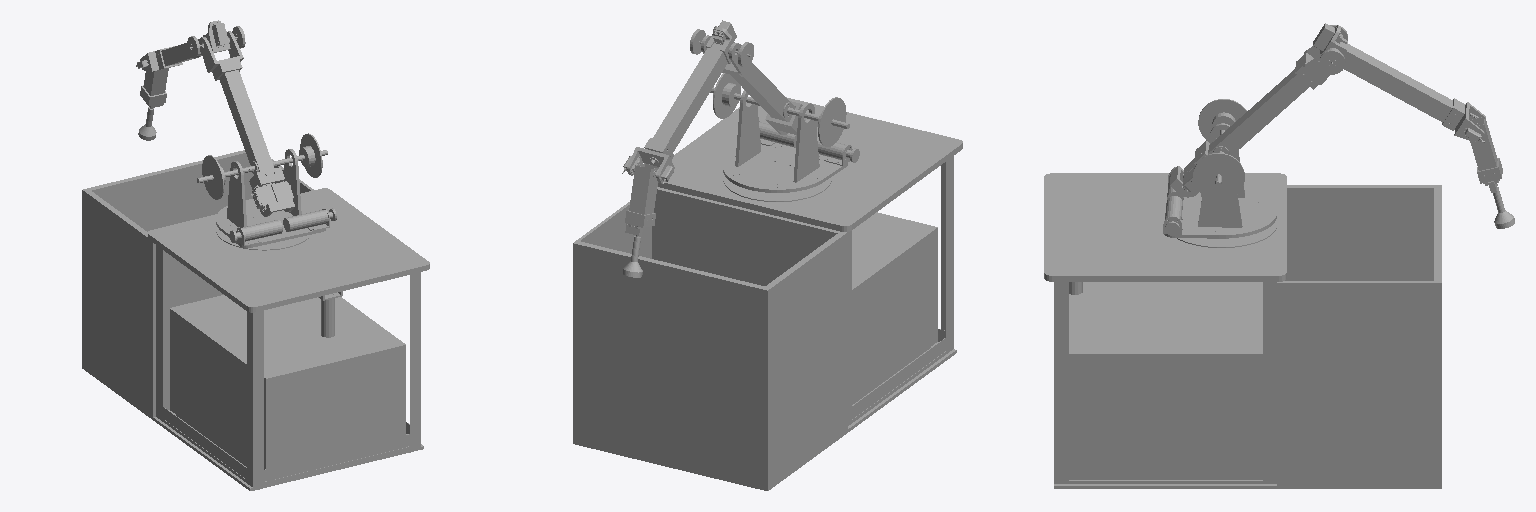
The robot description file, URDF, robot "vinci":
<?xml version="1.0" ?>
<!-- =================================================================================== -->
<!-- |    This document was autogenerated by xacro from [local-path]/final_ws/src/vinci_description/urdf/vinci.xacro | -->
<!-- |    EDITING THIS FILE BY HAND IS NOT RECOMMENDED                                 | -->
<!-- =================================================================================== -->
<robot name="vinci">
    <material name="silver">
        <color rgba="0.700 0.700 0.700 1.000" />
    </material>
    <transmission name="foundation_fork_tran">
        <type>transmission_interface/SimpleTransmission</type>
        <joint name="foundation_fork">
            <hardwareInterface>hardware_interface/EffortJointInterface</hardwareInterface>
        </joint>
        <actuator name="foundation_fork_actr">
            <hardwareInterface>hardware_interface/EffortJointInterface</hardwareInterface>
            <mechanicalReduction>1</mechanicalReduction>
        </actuator>
    </transmission>
    <transmission name="fork_forearm_tran">
        <type>transmission_interface/SimpleTransmission</type>
        <joint name="fork_forearm">
            <hardwareInterface>hardware_interface/EffortJointInterface</hardwareInterface>
        </joint>
        <actuator name="fork_forearm_actr">
            <hardwareInterface>hardware_interface/EffortJointInterface</hardwareInterface>
            <mechanicalReduction>1</mechanicalReduction>
        </actuator>
    </transmission>
    <transmission name="forearm_hand_tran">
        <type>transmission_interface/SimpleTransmission</type>
        <joint name="forearm_hand">
            <hardwareInterface>hardware_interface/EffortJointInterface</hardwareInterface>
        </joint>
        <actuator name="forearm_hand_actr">
            <hardwareInterface>hardware_interface/EffortJointInterface</hardwareInterface>
            <mechanicalReduction>1</mechanicalReduction>
        </actuator>
    </transmission>
    <transmission name="hand_fork_tran">
        <type>transmission_interface/SimpleTransmission</type>
        <joint name="hand_fork">
            <hardwareInterface>hardware_interface/EffortJointInterface</hardwareInterface>
        </joint>
        <actuator name="hand_fork_actr">
            <hardwareInterface>hardware_interface/EffortJointInterface</hardwareInterface>
            <mechanicalReduction>1</mechanicalReduction>
        </actuator>
    </transmission>
    <transmission name="fork_end_tran">
        <type>transmission_interface/SimpleTransmission</type>
        <joint name="fork_end">
            <hardwareInterface>hardware_interface/EffortJointInterface</hardwareInterface>
        </joint>
        <actuator name="fork_end_actr">
            <hardwareInterface>hardware_interface/EffortJointInterface</hardwareInterface>
            <mechanicalReduction>1</mechanicalReduction>
        </actuator>
    </transmission>
    <gazebo reference="base_link">
        <material>Gazebo/Silver</material>
        <mu1>0.2</mu1>
        <mu2>0.2</mu2>
        <selfCollide>true</selfCollide>
        <gravity>true</gravity>
        <plugin name="gazebo_ros_control">
            <robotNamespace>/</robotNamespace>
        </plugin>
    </gazebo>
    <gazebo reference="foundation__base_1">
        <material>Gazebo/Silver</material>
        <mu1>0.2</mu1>
        <mu2>0.2</mu2>
        <selfCollide>true</selfCollide>
    </gazebo>
    <gazebo reference="foundation_fork_1">
        <material>Gazebo/Silver</material>
        <mu1>0.2</mu1>
        <mu2>0.2</mu2>
        <selfCollide>true</selfCollide>
    </gazebo>
    <gazebo reference="forearm_1">
        <material>Gazebo/Silver</material>
        <mu1>0.2</mu1>
        <mu2>0.2</mu2>
        <selfCollide>true</selfCollide>
    </gazebo>
    <gazebo reference="hand_1">
        <material>Gazebo/Silver</material>
        <mu1>0.2</mu1>
        <mu2>0.2</mu2>
        <selfCollide>true</selfCollide>
    </gazebo>
    <gazebo reference="hand_fork_1">
        <material>Gazebo/Silver</material>
        <mu1>0.2</mu1>
        <mu2>0.2</mu2>
        <selfCollide>true</selfCollide>
    </gazebo>
    <gazebo reference="end_effector_1">
        <material>Gazebo/Silver</material>
        <mu1>0.2</mu1>
        <mu2>0.2</mu2>
        <selfCollide>true</selfCollide>
    </gazebo>
    <link name="dummy" />
    <joint name="dummy_joint" type="fixed">
        <parent link="dummy" />
        <child link="base_link" />
    </joint>
    <link name="base_link">
        <inertial>
            <origin rpy="0 0 0" xyz="-0.021518218467853914 0.23351950797477217 0.23670607205875357" />
            <mass value="17.97264000000002" />
            <inertia ixx="1.833137" ixy="0.030245" ixz="0.030749" iyy="1.542102" iyz="-0.287683" izz="1.955592" />
        </inertial>
        <visual>
            <origin rpy="0 0 0" xyz="0 0 0" />
            <geometry>
                <mesh filename="package://vinci_description/meshes/base_link.stl" scale="0.001 0.001 0.001" />
            </geometry>
            <material name="silver" />
        </visual>
        <collision>
            <origin rpy="0 0 0" xyz="0 0 0" />
            <geometry>
                <mesh filename="package://vinci_description/meshes/base_link.stl" scale="0.001 0.001 0.001" />
            </geometry>
        </collision>
    </link>
    <link name="foundation__base_1">
        <inertial>
            <origin rpy="0 0 0" xyz="-0.001888232824595331 0.0011432017738466638 0.20943681365096398" />
            <mass value="920.4727092380526" />
            <inertia ixx="48.985183" ixy="0.000622" ixz="-0.042143" iyy="41.31025" iyz="0.048602" izz="48.576431" />
        </inertial>
        <visual>
            <origin rpy="0 0 0" xyz="-0.0033 0.218673 -0.005643" />
            <geometry>
                <mesh filename="package://vinci_description/meshes/foundation__base_1.stl" scale="0.001 0.001 0.001" />
            </geometry>
            <material name="silver" />
        </visual>
        <collision>
            <origin rpy="0 0 0" xyz="-0.0033 0.218673 -0.005643" />
            <geometry>
                <mesh filename="package://vinci_description/meshes/foundation__base_1.stl" scale="0.001 0.001 0.001" />
            </geometry>
        </collision>
    </link>
    <link name="foundation_fork_1">
        <inertial>
            <origin rpy="0 0 0" xyz="-0.0014671964926098236 -0.03376372718940687 0.027101208060099302" />
            <mass value="2.098305031192791" />
            <inertia ixx="0.018488" ixy="8.8e-05" ixz="5.5e-05" iyy="0.020902" iyz="0.001405" izz="0.024893" />
        </inertial>
        <visual>
            <origin rpy="0 0 0" xyz="-0.0033 0.068673 -0.646643" />
            <geometry>
                <mesh filename="package://vinci_description/meshes/foundation_fork_1.stl" scale="0.001 0.001 0.001" />
            </geometry>
            <material name="silver" />
        </visual>
        <collision>
            <origin rpy="0 0 0" xyz="-0.0033 0.068673 -0.646643" />
            <geometry>
                <mesh filename="package://vinci_description/meshes/foundation_fork_1.stl" scale="0.001 0.001 0.001" />
            </geometry>
        </collision>
    </link>
    <link name="forearm_1">
        <inertial>
            <origin rpy="0 0 0" xyz="-0.09540847267472075 0.04056293998704136 0.03597247258900238" />
            <mass value="1.1580779637924898" />
            <inertia ixx="0.036195" ixy="-0.00031" ixz="-0.000725" iyy="0.028689" iyz="-0.017574" izz="0.028609" />
        </inertial>
        <visual>
            <origin rpy="0 0 0" xyz="-0.093223 0.072385 -0.851643" />
            <geometry>
                <mesh filename="package://vinci_description/meshes/forearm_1.stl" scale="0.001 0.001 0.001" />
            </geometry>
            <material name="silver" />
        </visual>
        <collision>
            <origin rpy="0 0 0" xyz="-0.093223 0.072385 -0.851643" />
            <geometry>
                <mesh filename="package://vinci_description/meshes/forearm_1.stl" scale="0.001 0.001 0.001" />
            </geometry>
        </collision>
    </link>
    <link name="hand_1">
        <inertial>
            <origin rpy="0 0 0" xyz="-0.03992368478493042 0.07143853540526318 -0.033703682433203985" />
            <mass value="0.39288844288416375" />
            <inertia ixx="0.008986" ixy="-0.000242" ixz="0.000159" iyy="0.003142" iyz="0.003845" izz="0.007028" />
        </inertial>
        <visual>
            <origin rpy="0 0 0" xyz="-0.048664 -0.23023 -1.152164" />
            <geometry>
                <mesh filename="package://vinci_description/meshes/hand_1.stl" scale="0.001 0.001 0.001" />
            </geometry>
            <material name="silver" />
        </visual>
        <collision>
            <origin rpy="0 0 0" xyz="-0.048664 -0.23023 -1.152164" />
            <geometry>
                <mesh filename="package://vinci_description/meshes/hand_1.stl" scale="0.001 0.001 0.001" />
            </geometry>
        </collision>
    </link>
    <link name="hand_fork_1">
        <inertial>
            <origin rpy="0 0 0" xyz="0.001044527118925321 0.025305490978953737 -0.014623183252032379" />
            <mass value="0.19515039122298017" />
            <inertia ixx="0.000118" ixy="1.3e-05" ixz="1e-06" iyy="0.00042" iyz="2.1e-05" izz="0.000445" />
        </inertial>
        <visual>
            <origin rpy="0 0 0" xyz="-0.019793 -0.56946 -0.957164" />
            <geometry>
                <mesh filename="package://vinci_description/meshes/hand_fork_1.stl" scale="0.001 0.001 0.001" />
            </geometry>
            <material name="silver" />
        </visual>
        <collision>
            <origin rpy="0 0 0" xyz="-0.019793 -0.56946 -0.957164" />
            <geometry>
                <mesh filename="package://vinci_description/meshes/hand_fork_1.stl" scale="0.001 0.001 0.001" />
            </geometry>
        </collision>
    </link>
    <link name="end_effector_1">
        <inertial>
            <origin rpy="0 0 0" xyz="-0.021214291377516858 0.048734773258859776 -0.17836473257148278" />
            <mass value="0.5354810781353959" />
            <inertia ixx="0.003599" ixy="-2e-06" ixz="9e-06" iyy="0.003392" iyz="0.000835" izz="0.000502" />
        </inertial>
        <visual>
            <origin rpy="0 0 0" xyz="-0.046732 -0.615914 -0.92968" />
            <geometry>
                <mesh filename="package://vinci_description/meshes/end_effector_1.stl" scale="0.001 0.001 0.001" />
            </geometry>
            <material name="silver" />
        </visual>
        <collision>
            <origin rpy="0 0 0" xyz="-0.046732 -0.615914 -0.92968" />
            <geometry>
                <mesh filename="package://vinci_description/meshes/end_effector_1.stl" scale="0.001 0.001 0.001" />
            </geometry>
        </collision>
    </link>
    <joint name="foundation_base" type="fixed">
        <origin rpy="0 0 0" xyz="0.0033 -0.218673 0.005643" />
        <parent link="base_link" />
        <child link="foundation__base_1" />
    </joint>
    <joint name="foundation_fork" type="continuous">
        <origin rpy="0 0 0" xyz="0.0 0.15 0.641" />
        <parent link="foundation__base_1" />
        <child link="foundation_fork_1" />
        <axis xyz="-0.0 -0.0 1.0" />
    </joint>
    <joint name="fork_forearm" type="revolute">
        <origin rpy="0 0 0" xyz="0.089923 -0.003712 0.205" />
        <parent link="foundation_fork_1" />
        <child link="forearm_1" />
        <axis xyz="-0.999149 0.041238 -0.0" />
        <limit effort="100" lower="-0.174533" upper="1.396263" velocity="100" />
    </joint>
    <joint name="forearm_hand" type="revolute">
        <origin rpy="0 0 0" xyz="-0.044559 0.302615 0.300521" />
        <parent link="forearm_1" />
        <child link="hand_1" />
        <axis xyz="-0.999149 0.041238 -0.0" />
        <limit effort="100" lower="-0.698132" upper="0.698132" velocity="100" />
    </joint>
    <joint name="hand_fork" type="revolute">
        <origin rpy="0 0 0" xyz="-0.028871 0.33923 -0.195" />
        <parent link="hand_1" />
        <child link="hand_fork_1" />
        <axis xyz="-0.035713 -0.865289 0.5" />
        <limit effort="100" lower="-1.570796" upper="1.570796" velocity="100" />
    </joint>
    <joint name="fork_end" type="revolute">
        <origin rpy="0 0 0" xyz="0.026939 0.046454 -0.027484" />
        <parent link="hand_fork_1" />
        <child link="end_effector_1" />
        <axis xyz="-0.999116 0.042013 0.001343" />
        <limit effort="100" lower="-1.570796" upper="1.570796" velocity="100" />
    </joint>
    <gazebo>
        <plugin filename="libgazebo_ros_control.so" name="gazebo_ros_control" />
    </gazebo>
</robot>

--- What the picture shows (computed from the rendered views, not written in the file) ---
The picture shows the robot from 3 angles, left to right: view 1: azimuth 30°, elevation 25°; view 2: azimuth 150°, elevation 25°; view 3: azimuth 270°, elevation 25°; orthographic projection.
Model vinci with 8 links and 7 joints (4 revolute, 1 continuous, 2 fixed), rooted at dummy, posed all joints at 0.
Visible links, largest first — view 1: foundation__base_1, base_link, forearm_1, foundation_fork_1, hand_1, end_effector_1; view 2: base_link, foundation__base_1, foundation_fork_1, forearm_1, hand_1, end_effector_1, hand_fork_1; view 3: foundation__base_1, base_link, forearm_1, foundation_fork_1, hand_1, end_effector_1, hand_fork_1.
Boxes of the visible links, box(x1,y1,x2,y2) form: foundation__base_1: box(148, 188, 429, 489); base_link: box(82, 150, 423, 490); forearm_1: box(197, 31, 327, 216); foundation_fork_1: box(216, 149, 336, 247); hand_1: box(155, 20, 245, 69); end_effector_1: box(138, 68, 168, 140); base_link: box(573, 187, 956, 490); foundation__base_1: box(658, 97, 962, 425); foundation_fork_1: box(723, 90, 859, 192); forearm_1: box(701, 35, 849, 146); hand_1: box(644, 20, 753, 160); end_effector_1: box(623, 163, 658, 277); hand_fork_1: box(622, 147, 674, 183); foundation__base_1: box(1044, 173, 1286, 483); base_link: box(1054, 185, 1441, 488); forearm_1: box(1170, 46, 1339, 200); foundation_fork_1: box(1163, 123, 1276, 238); hand_1: box(1313, 23, 1465, 130); end_effector_1: box(1470, 117, 1514, 228); hand_fork_1: box(1454, 102, 1485, 142).
Bounding box of the posed robot: 0.65 × 1.26 × 1.24 m (x, y, z).
Meshes: 7 distinct files referenced, 7 mesh visuals loaded (7 binary STL).
